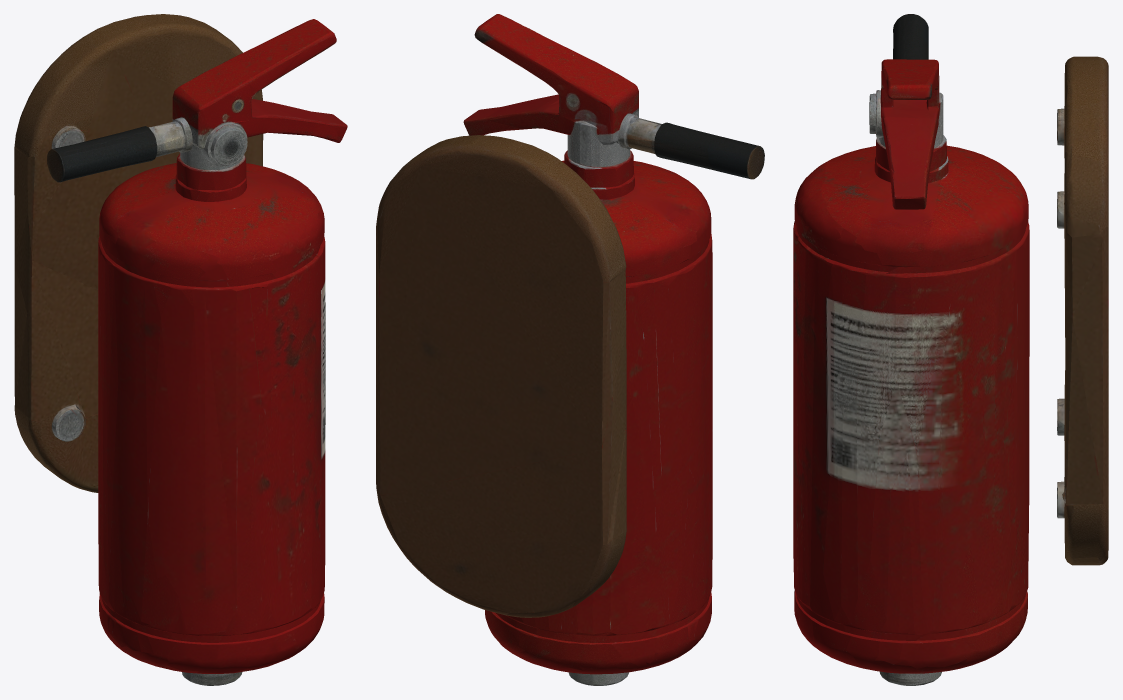
Rendered from estintore.glb.
The picture shows the model from 3 angles, left to right: view 1: azimuth 30°, elevation 25°; view 2: azimuth 150°, elevation 25°; view 3: azimuth 270°, elevation 25°; orthographic projection. The views are drawn at different scales.
Size of the model in its own units: 0.913 by 1.9 by 0.8424.
Materials: 1 (1 with a texture image).
